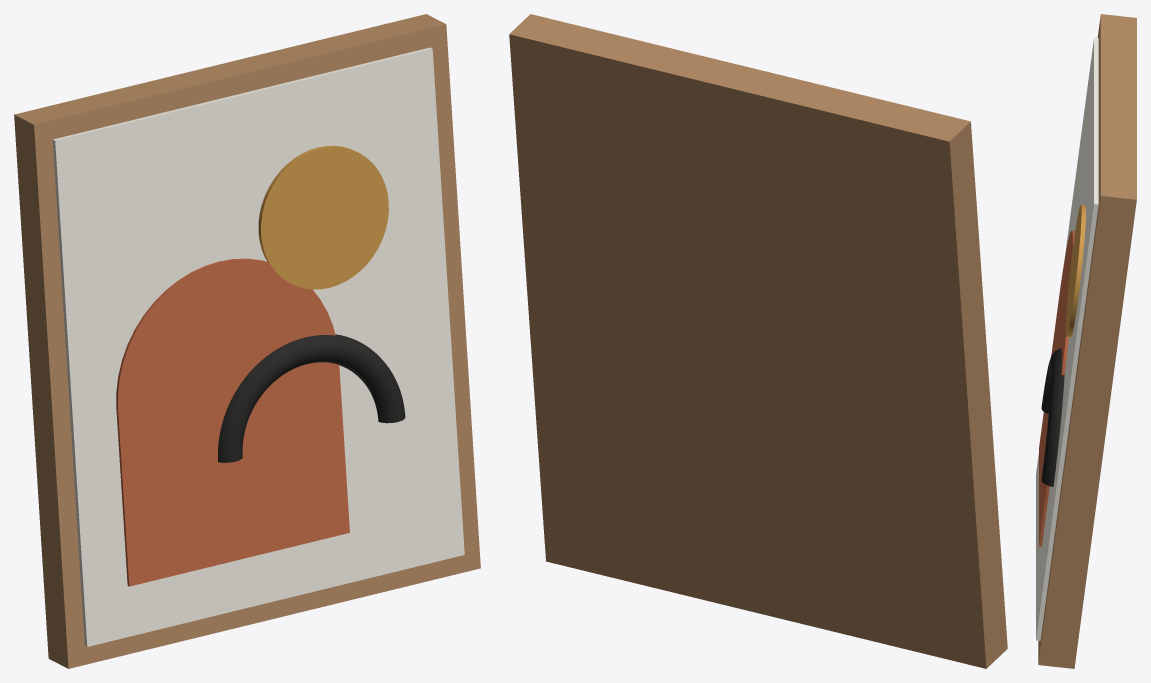
The model's file is canvas_painting.glb.
3 renders of one model, left to right at view 1: azimuth 30°, elevation 25°; view 2: azimuth 150°, elevation 25°; view 3: azimuth 270°, elevation 25°, orthographic. The views are drawn at different scales.
Bounding box in the file's own units: 1.42 × 1.72 × 0.3328.
